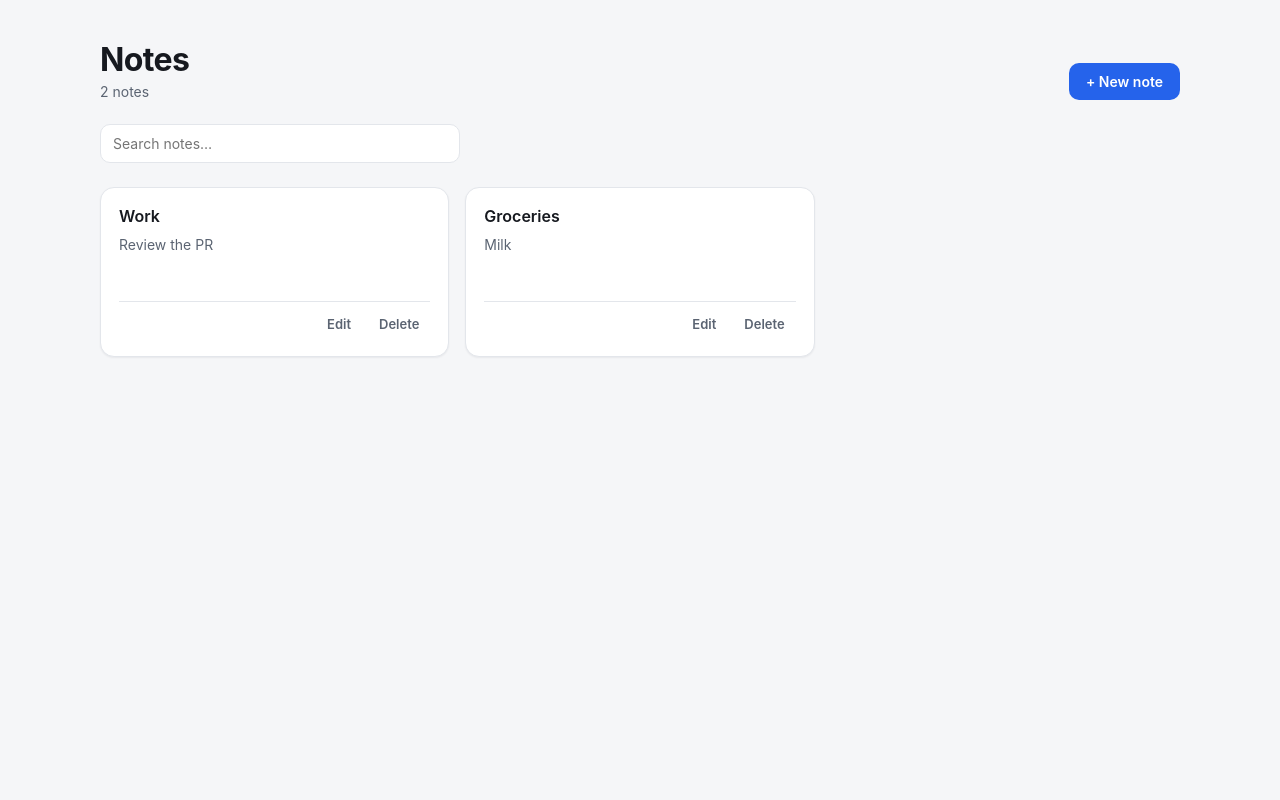
Scenario: Notes dashboard › edits a note through the API
Click the button named "Edit \"Work\"" at x=339, y=324, box 316,310 -> 362,338
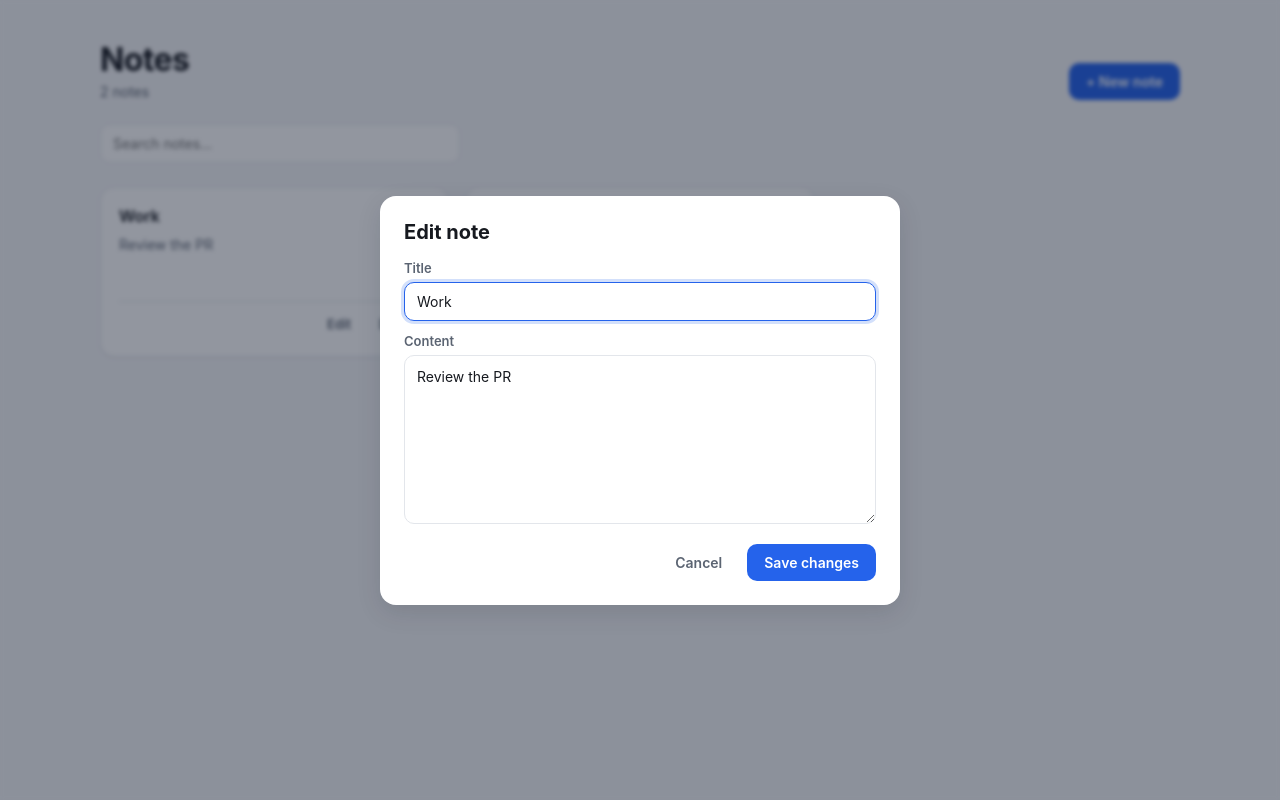
Replace the text in the field labelled "Title" with "Work (urgent)" at x=640, y=301, box 404,282 -> 876,320
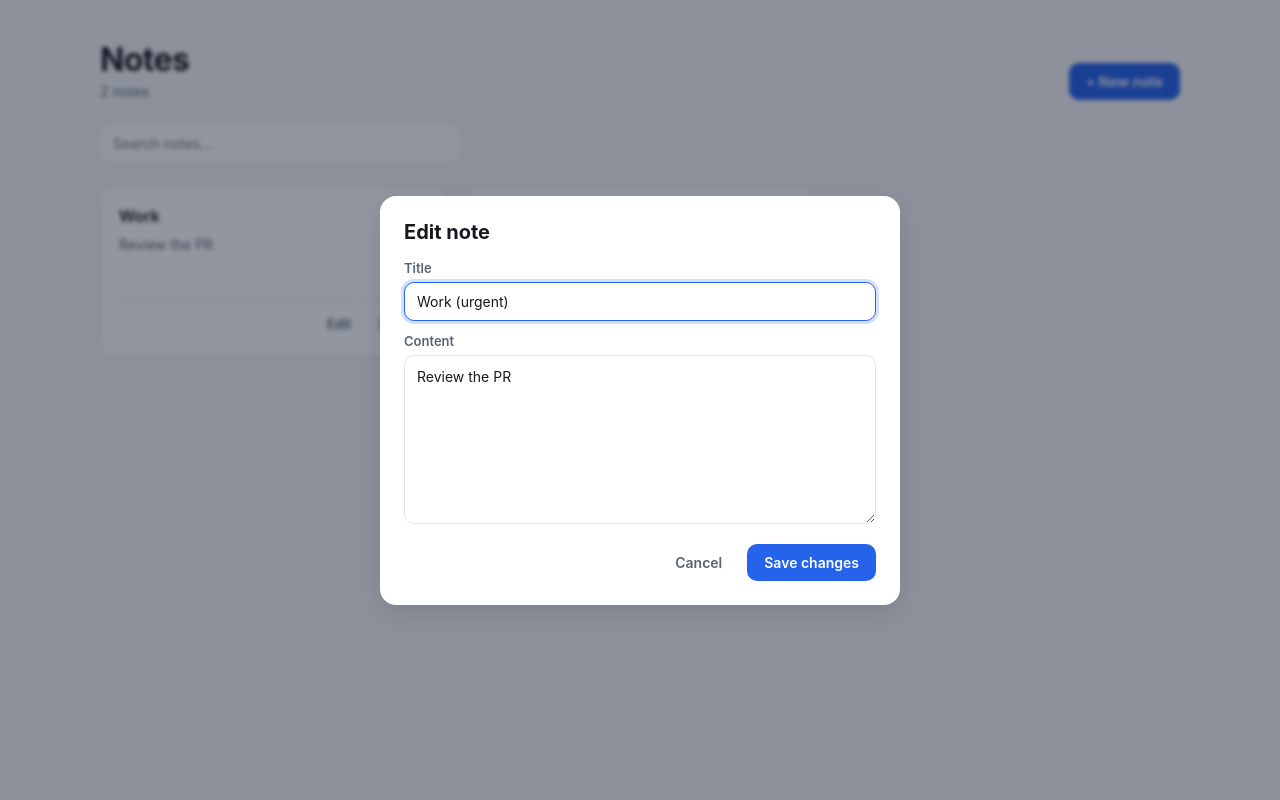
Click the button "Save changes" at x=812, y=562, box 747,544 -> 876,580
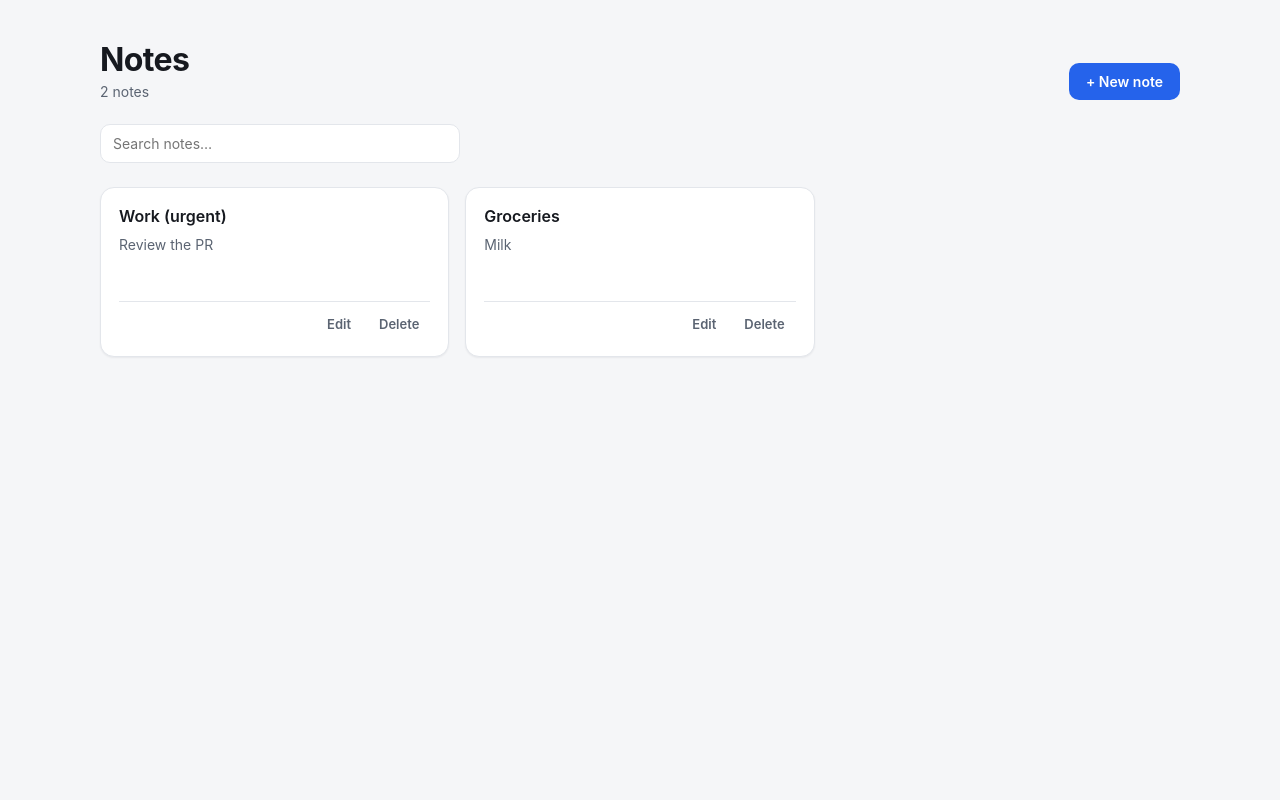
Check: the heading "Work (urgent)" is shown, box 119,206 -> 227,226
